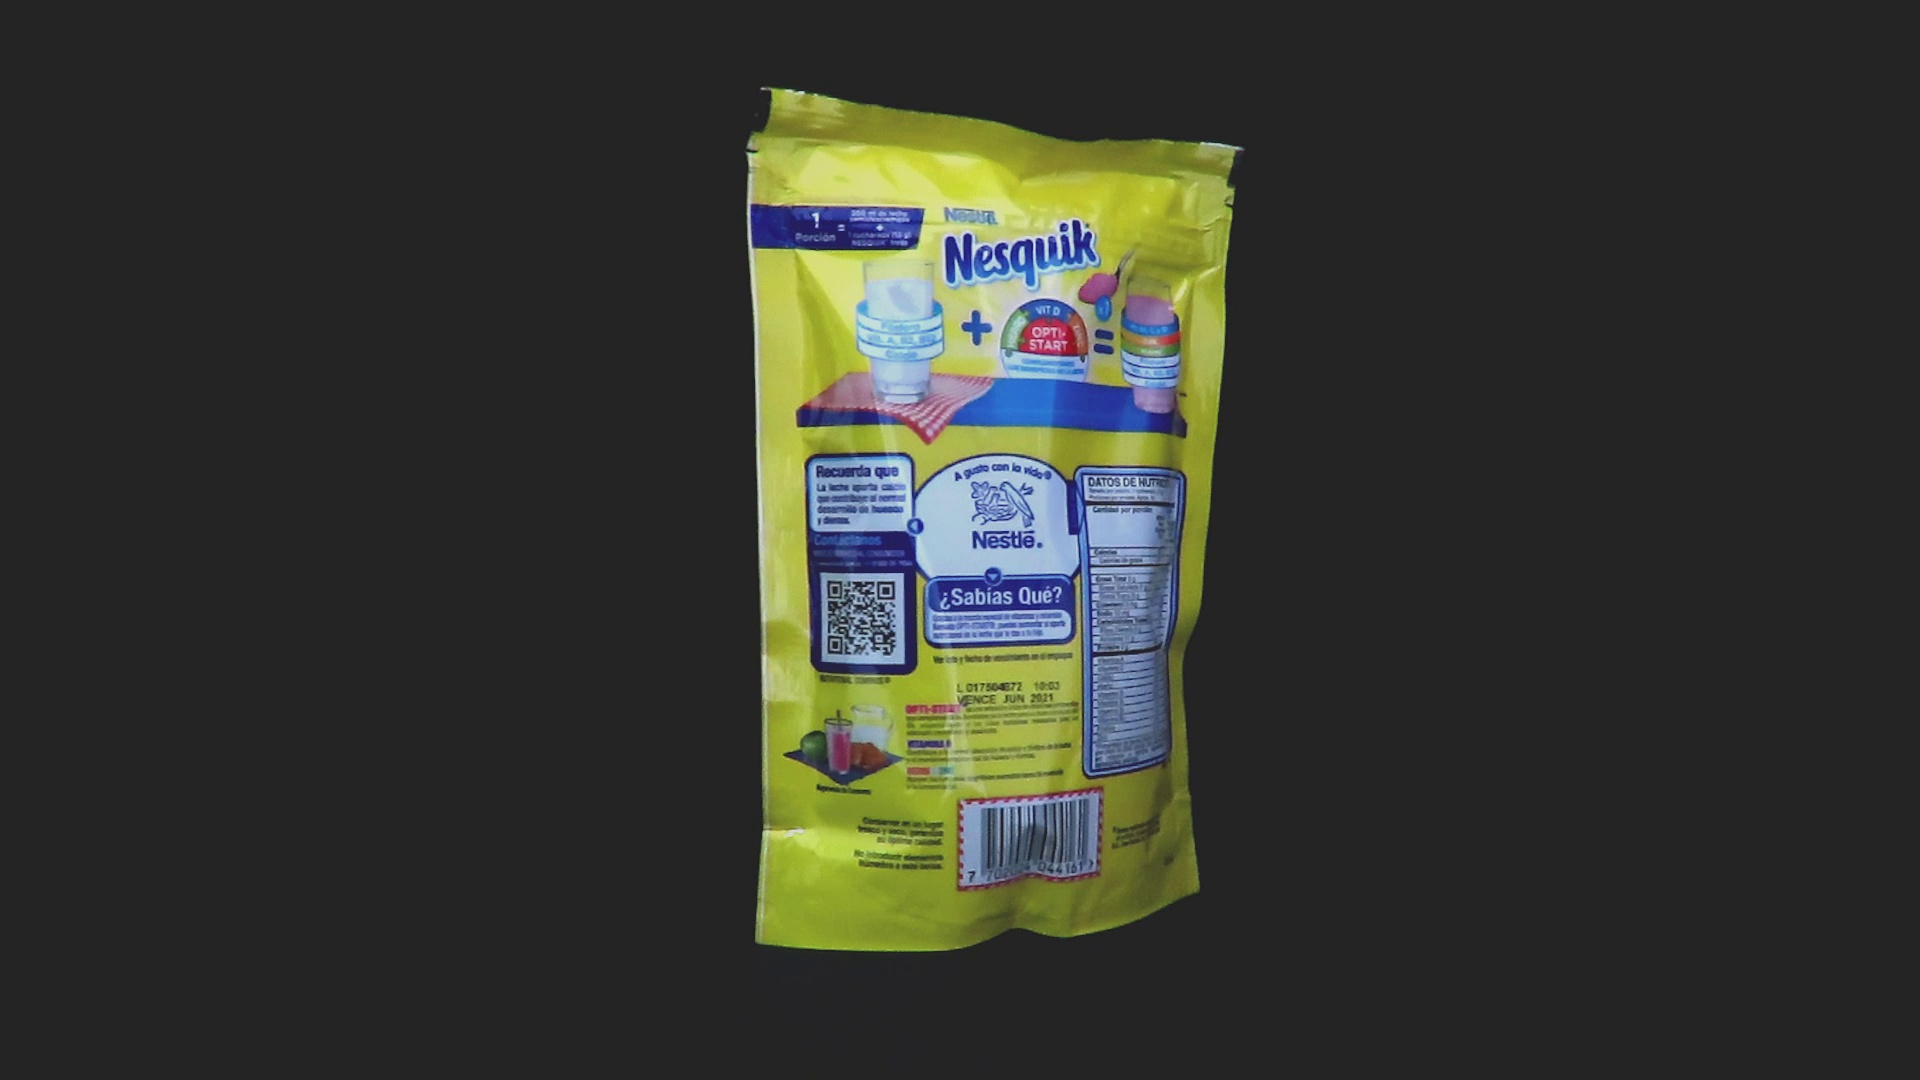COL0170305DYP20000: (741, 82, 1251, 957)
